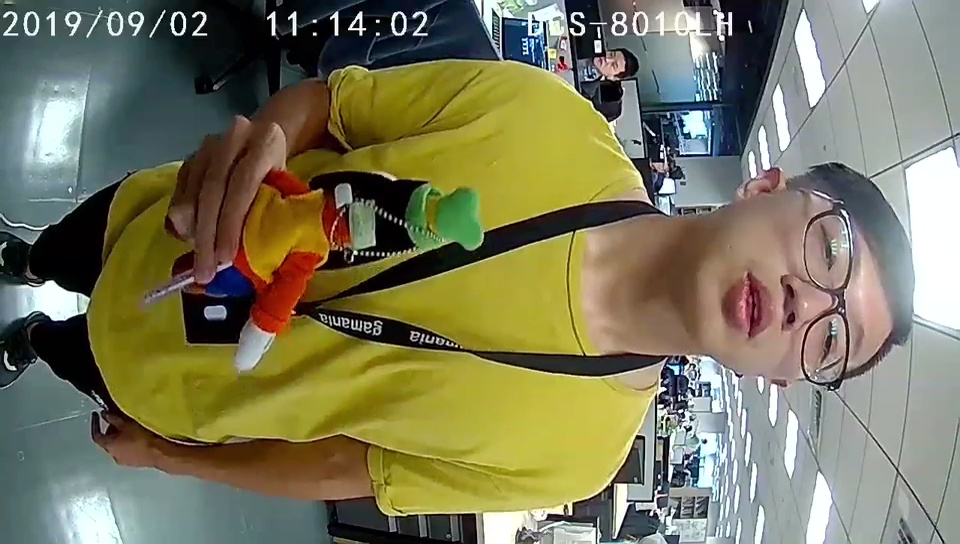goofy: (241, 176, 483, 372)
